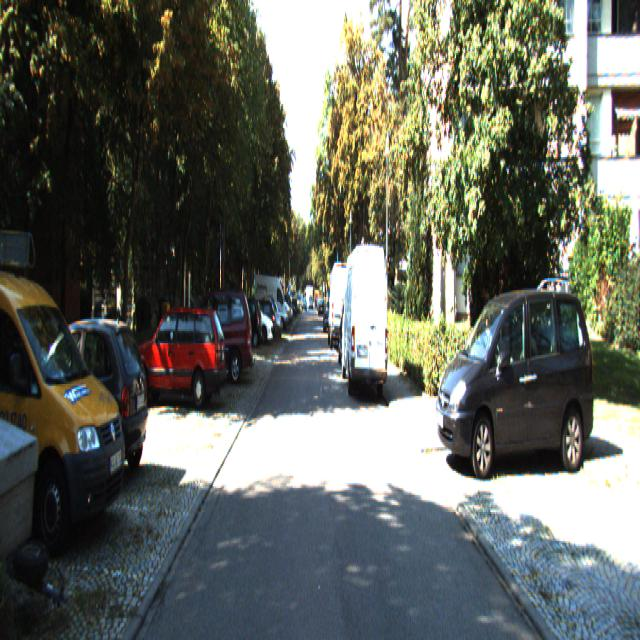Car: (0, 206, 130, 564), (434, 281, 596, 478), (9, 316, 150, 490), (0, 394, 74, 638), (127, 305, 228, 412), (176, 287, 253, 389), (341, 242, 388, 394), (253, 274, 290, 334), (328, 260, 352, 349), (235, 298, 275, 351), (226, 298, 262, 351)
